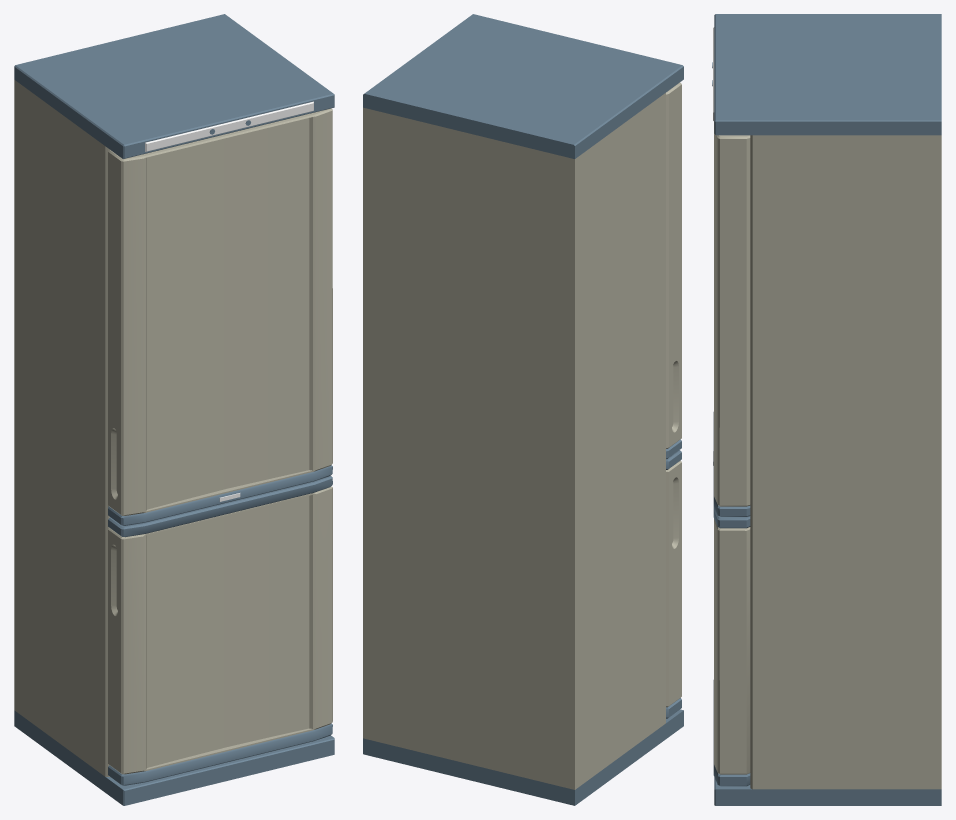
The model's file is Srl317Np.FBX.
3 renders of one model, left to right at view 1: azimuth 30°, elevation 25°; view 2: azimuth 150°, elevation 25°; view 3: azimuth 270°, elevation 25°, orthographic. The views are drawn at different scales.
Parts seen in each view (by area): view 1: Srl317Np; view 2: Srl317Np; view 3: Srl317Np.
Boxes of the visible parts, bbox=[...] form: Srl317Np: bbox=[14, 14, 334, 805]; Srl317Np: bbox=[363, 14, 683, 805]; Srl317Np: bbox=[712, 14, 941, 805].
Size of the model in its own units: 59.5 by 53.8 by 177.
